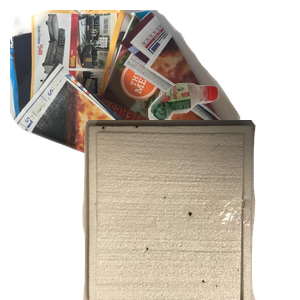glass: (94, 184, 253, 300)
paper: (10, 10, 250, 190)
plastic: (146, 80, 300, 198)
trash: (80, 120, 300, 300)
